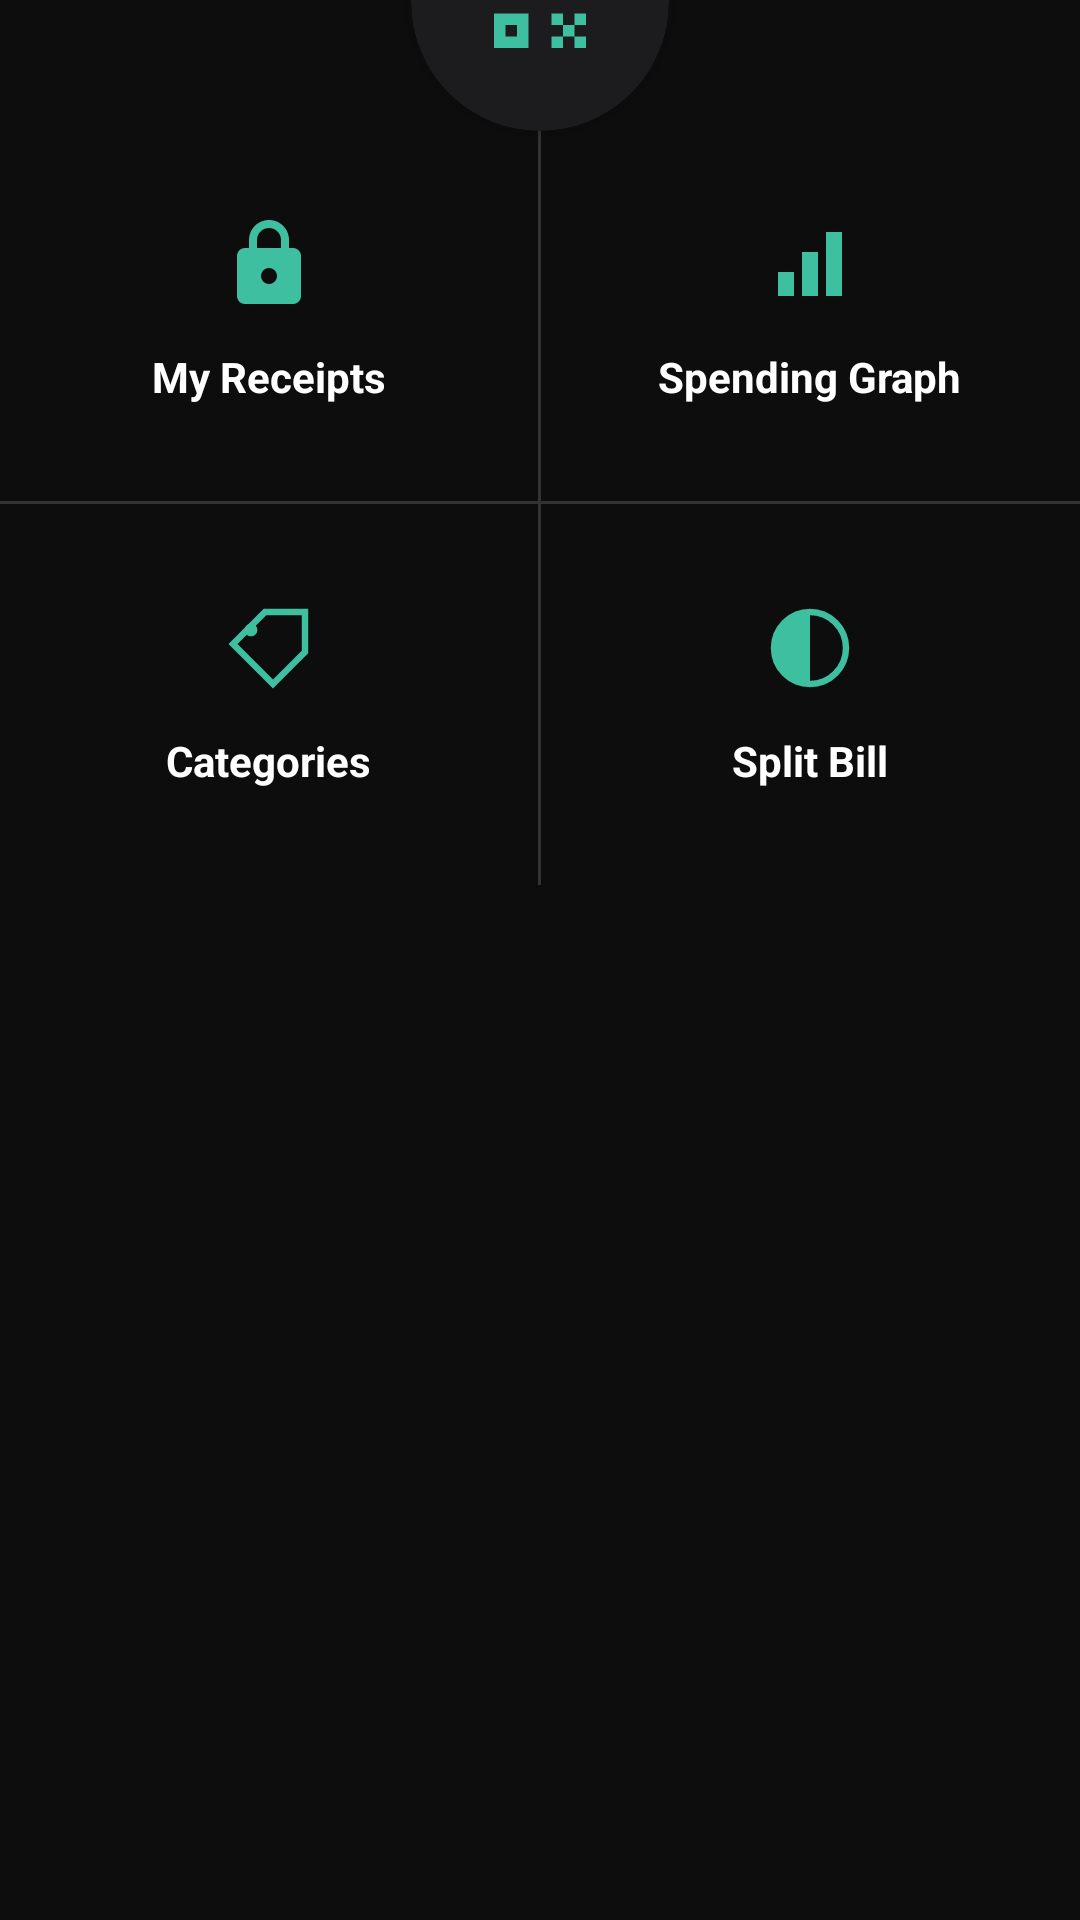

Icon bounding boxes for this 1080px×1920px phone screenshot, format Rect(x1, y1, x2, y2):
category: Rect(228, 608, 309, 688)
chart: Rect(778, 232, 842, 296)
safe: Rect(237, 220, 301, 304)
